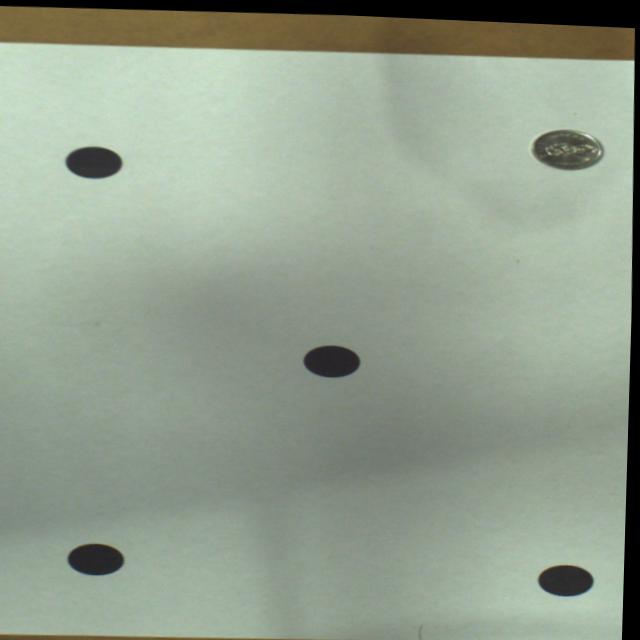space: (539, 559, 595, 591), (305, 342, 361, 374), (66, 145, 122, 177), (71, 542, 127, 573)
tail1bath: (531, 123, 603, 164)
